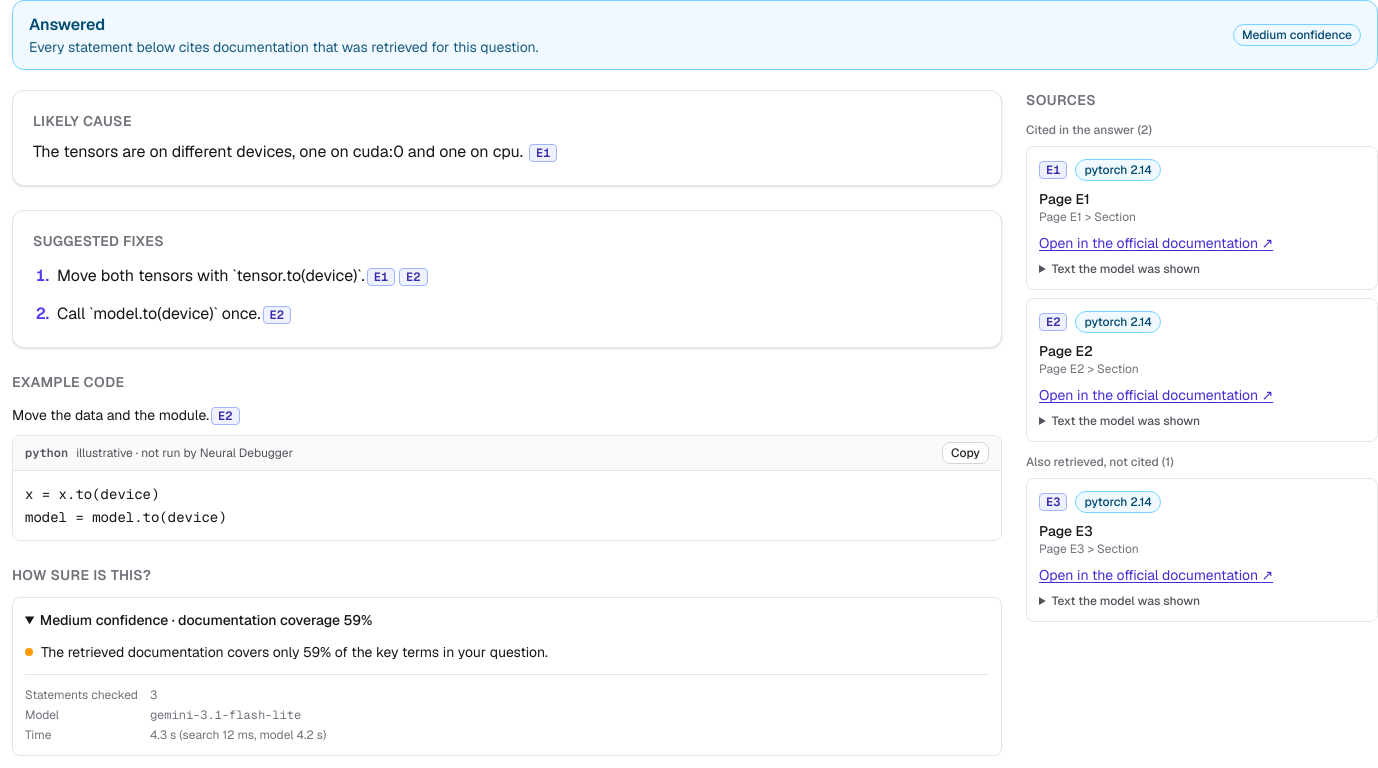
Scenario: AnswerView › turns inline [E1] markers and listed citations into chips that open the matching source
Expected: the element "Likely cause" does not show "[E1]", x1=33 y1=112 x2=132 y2=130
What coordinates should you click on to do the following:
click the button named "Show source E1"
I would click on:
 (543, 153)
Its box is x1=529 y1=144 x2=557 y2=162.
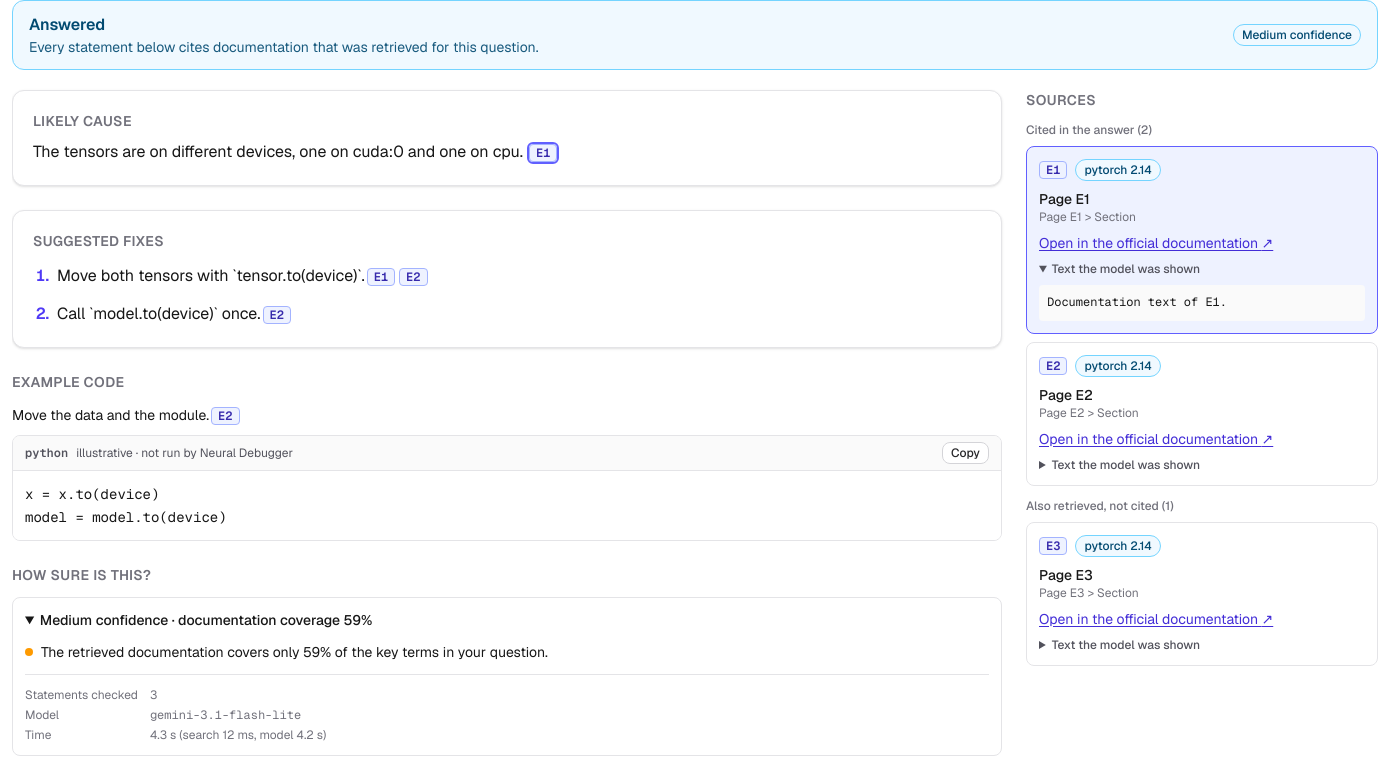
Expected: the text "Documentation text of E1." is shown, x1=1039 y1=285 x2=1365 y2=320
